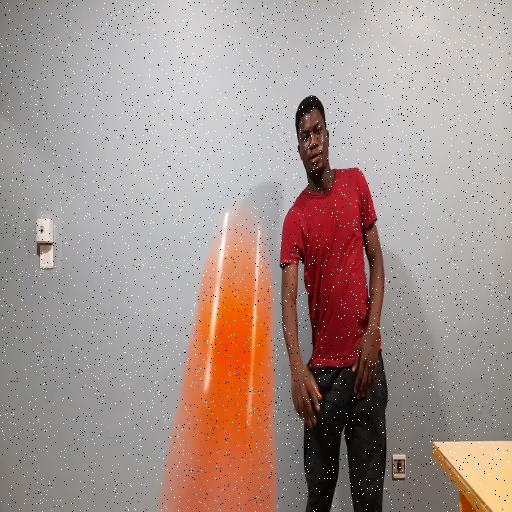plastic-ball: (155, 179, 286, 512)
